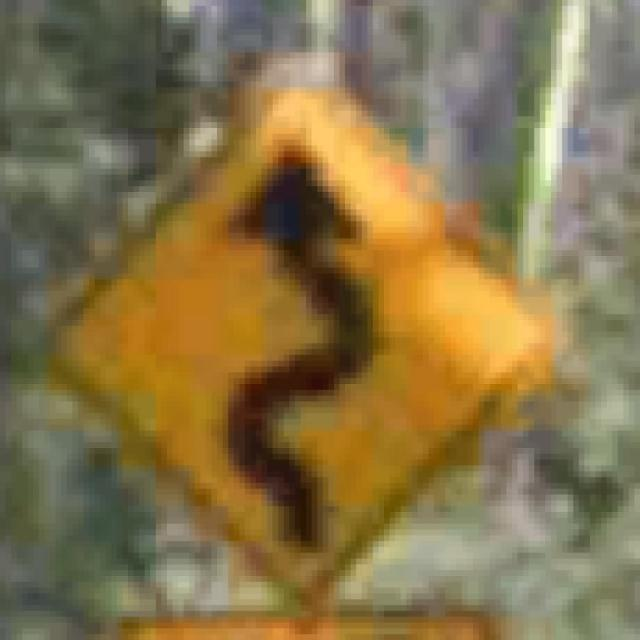Banyak Tikungan Pertama Kiri: (28, 58, 546, 611)
